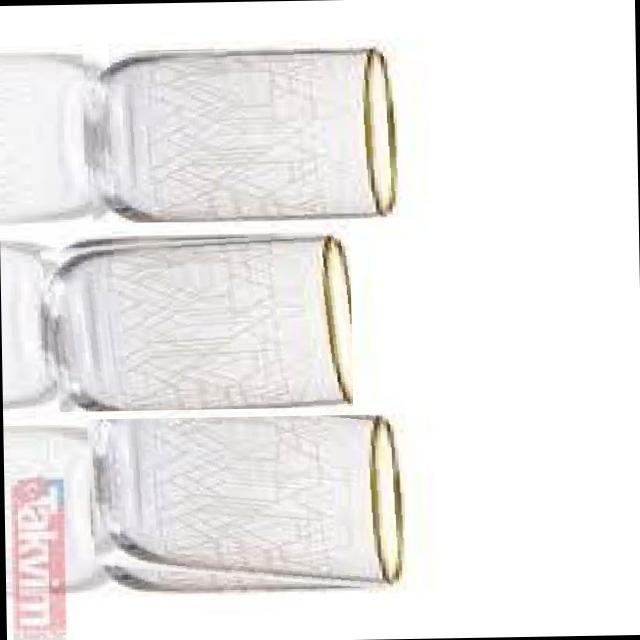Glass: (83, 414, 404, 598), (38, 230, 351, 412), (81, 44, 397, 223)
